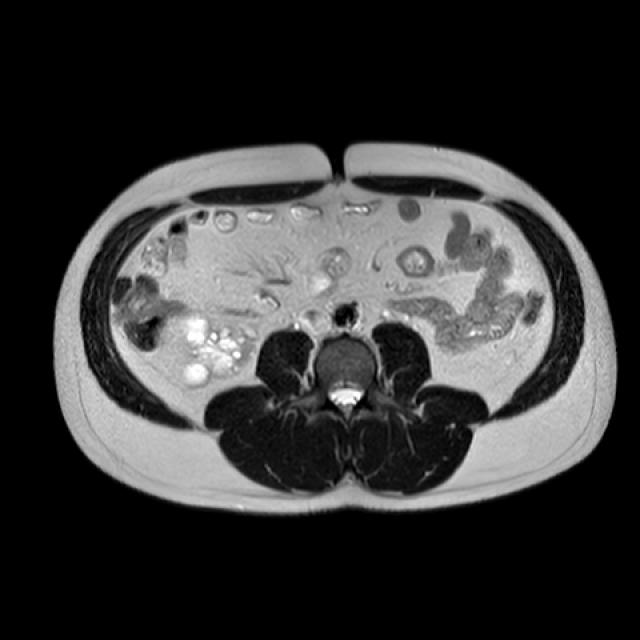sag: (179, 314, 259, 387)
